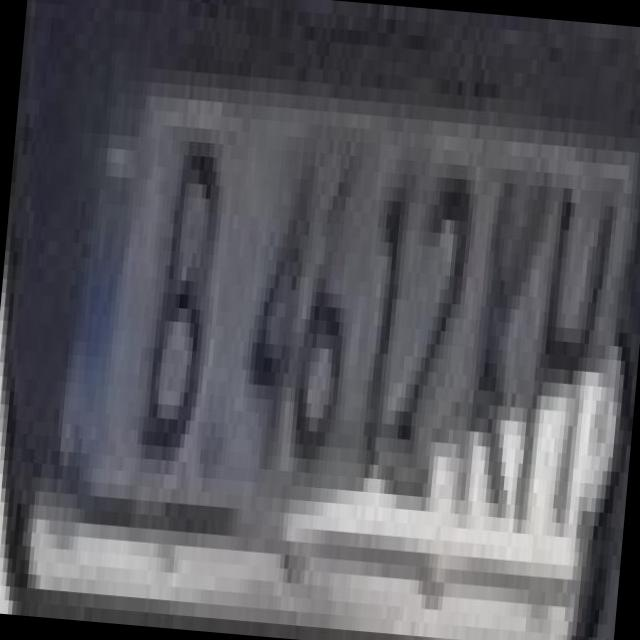2: (362, 117, 483, 499)
4: (208, 90, 329, 472)
6: (266, 94, 388, 477)
B: (110, 94, 234, 463)
H: (488, 128, 636, 526)
